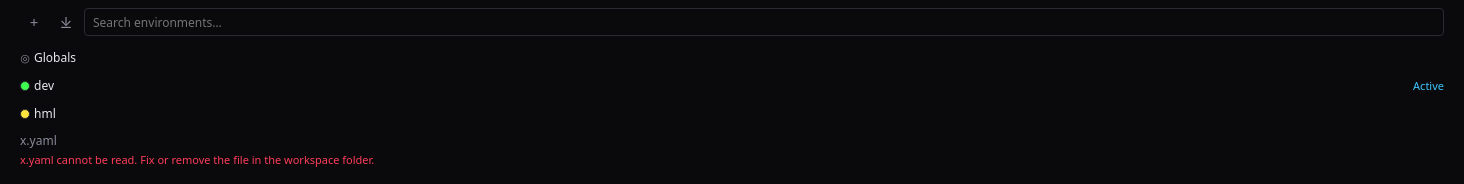
Test case: EnvironmentsView › filters the list by name as the search is typed
Type "HM" into the search field labelled "Search environments" at [764, 22], box [84, 8, 1444, 36]
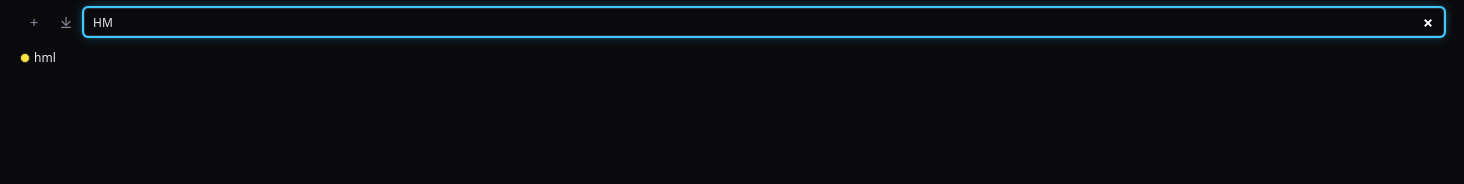
Now the buttons read "hml", in this order, box [12, 44, 1452, 72]
Replace the text in the search field named "Search environments" with "nothing" at [764, 22], box [84, 8, 1444, 36]
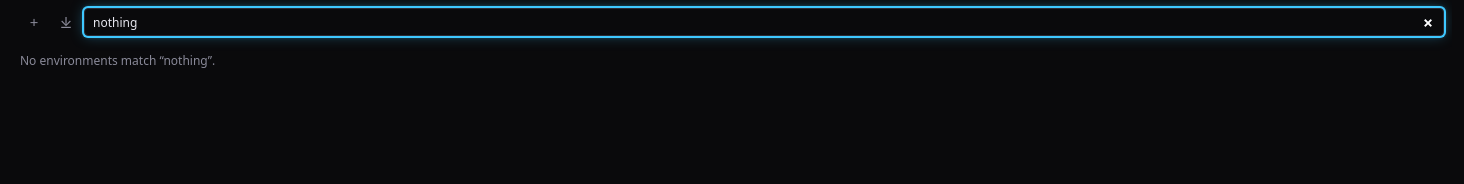
Now the text "No environments match “nothing”." is shown, box [20, 52, 215, 69]
